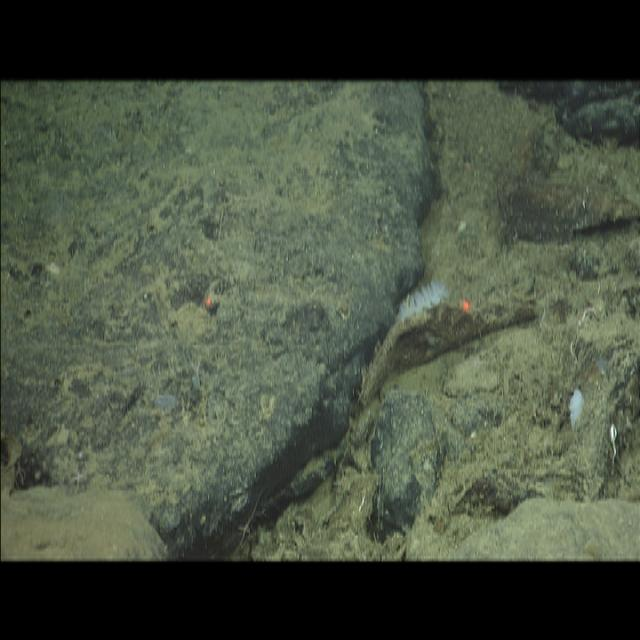Brittle Star: (65, 458, 93, 495)
